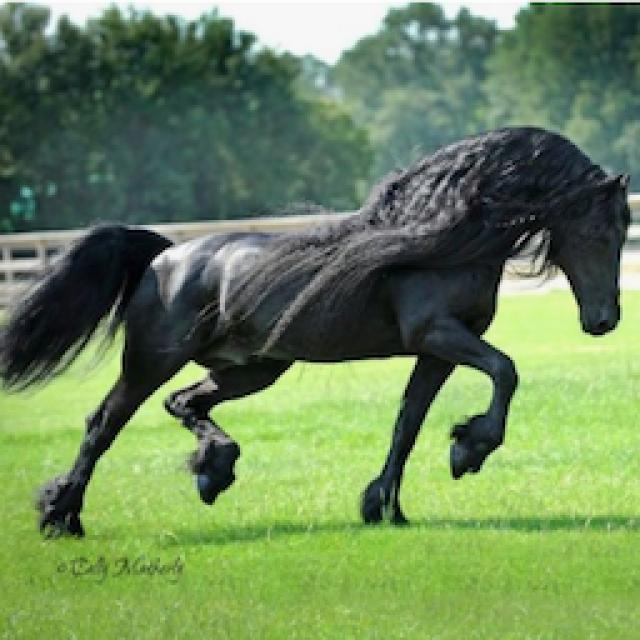Horse: (0, 118, 638, 542)
